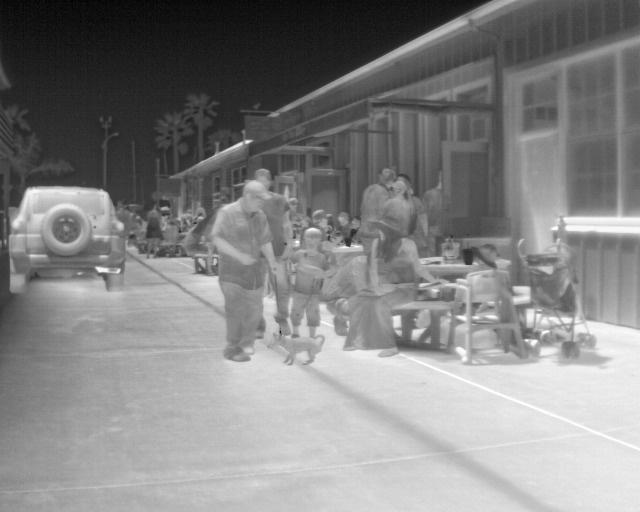bicycle: (8, 184, 124, 293)
empty: (208, 181, 287, 365), (340, 214, 435, 356), (283, 229, 330, 328), (324, 254, 370, 333), (397, 173, 431, 253), (361, 165, 394, 228), (419, 169, 441, 236), (141, 204, 164, 257), (182, 216, 209, 253), (161, 218, 179, 257), (284, 196, 303, 229)
